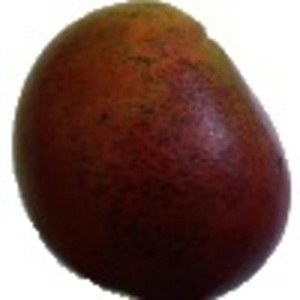manga: (2, 1, 292, 300)
